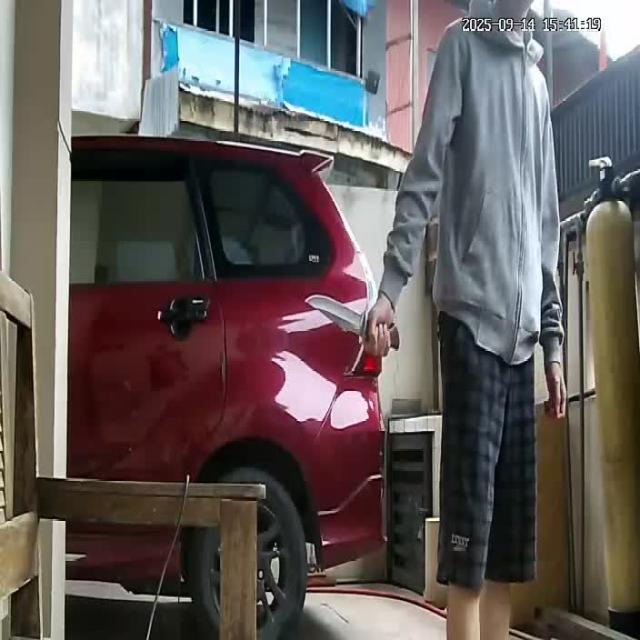senjata_tajam: (304, 290, 369, 340)
